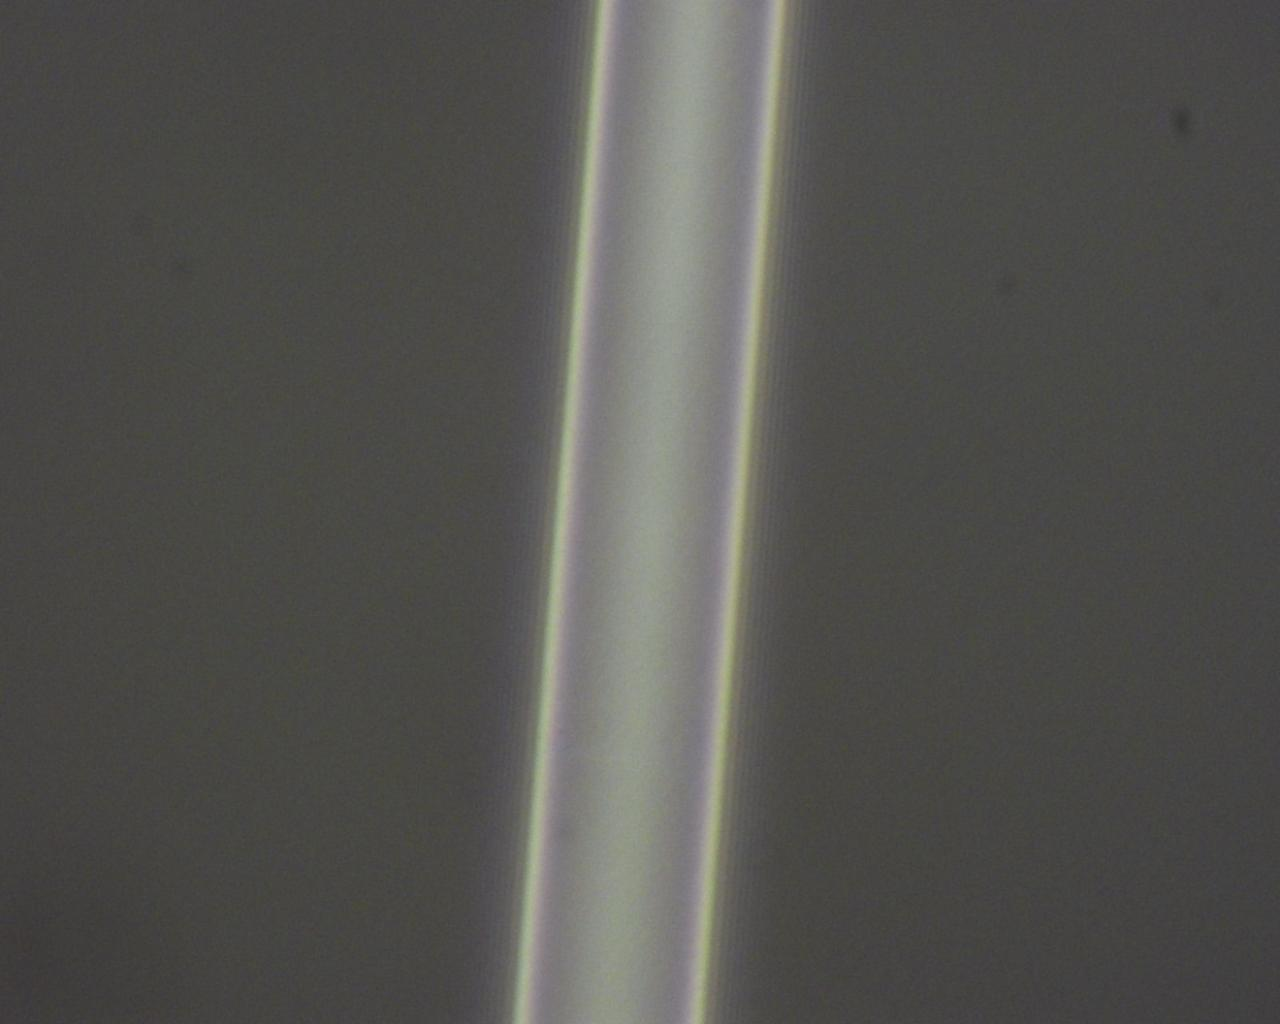fiber: (127, 854, 1140, 1024)
